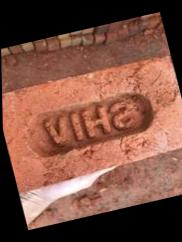brick: (1, 55, 182, 193)
